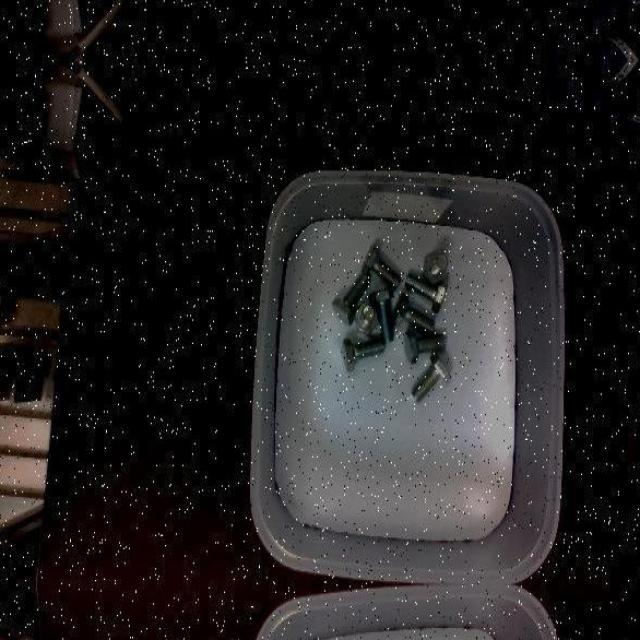screw: (411, 351, 451, 402), (331, 273, 368, 324), (360, 242, 400, 288), (392, 292, 435, 334), (405, 271, 448, 312), (342, 337, 384, 371), (367, 288, 393, 342), (404, 330, 446, 363), (422, 250, 448, 284), (354, 301, 378, 335)
